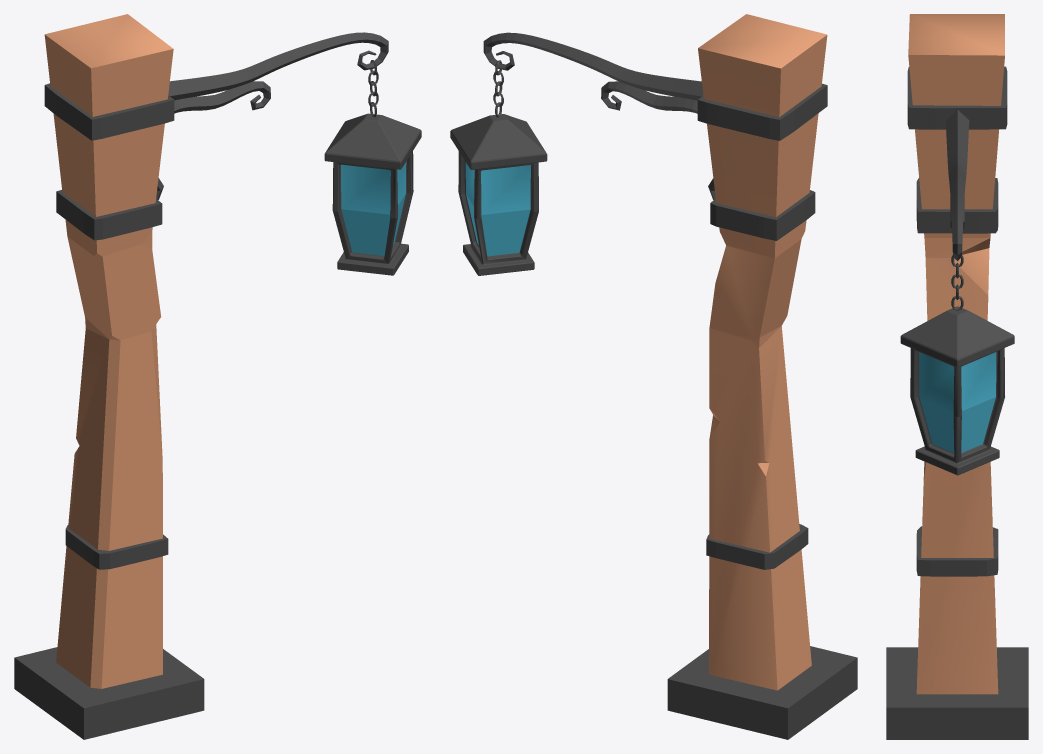
File: StreetLamp_treev2.fbx
3 views of the same model, side by side, from view 1: azimuth 30°, elevation 25°; view 2: azimuth 150°, elevation 25°; view 3: azimuth 270°, elevation 25° (orthographic). The views are drawn at different scales.
Parts seen in each view (by area): view 1: Tree_StreetLamp2; view 2: Tree_StreetLamp2; view 3: Tree_StreetLamp2.
Boxes of the visible parts, x1=… form: Tree_StreetLamp2: x1=14, y1=14, x2=421, y2=739; Tree_StreetLamp2: x1=450, y1=14, x2=857, y2=739; Tree_StreetLamp2: x1=886, y1=14, x2=1028, y2=739.
Bounding box in the file's own units: 160 × 271 × 51.85.
